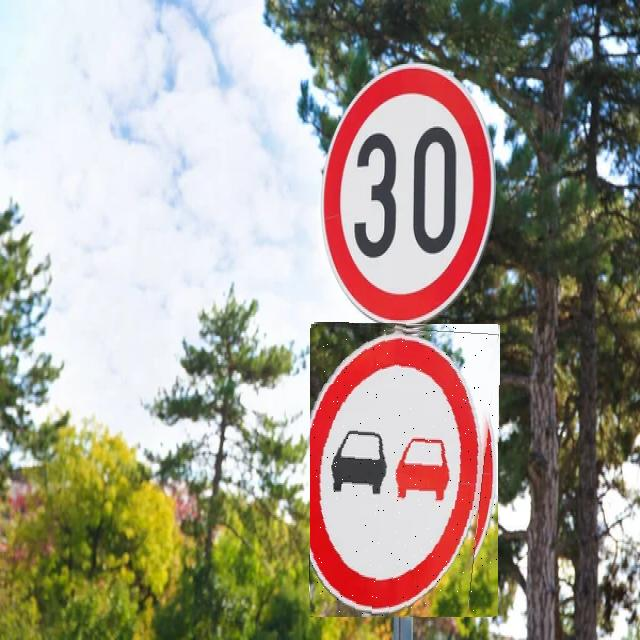no overtaking: (310, 323, 499, 617)
